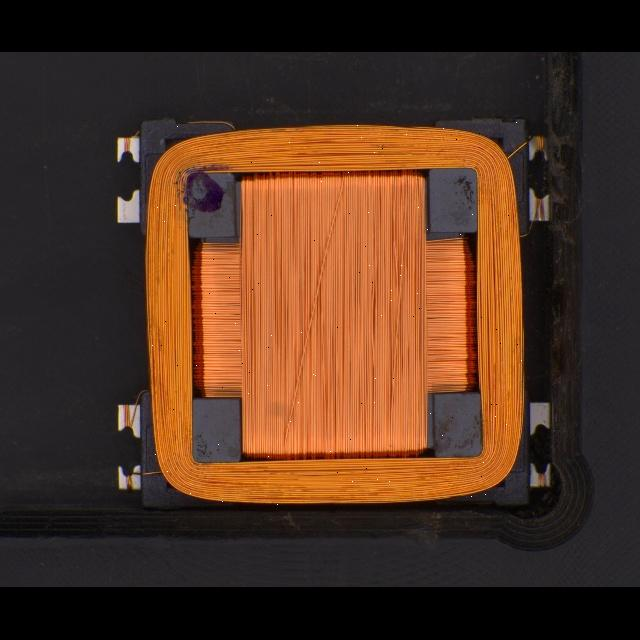Winding_Z: (137, 119, 528, 507)
